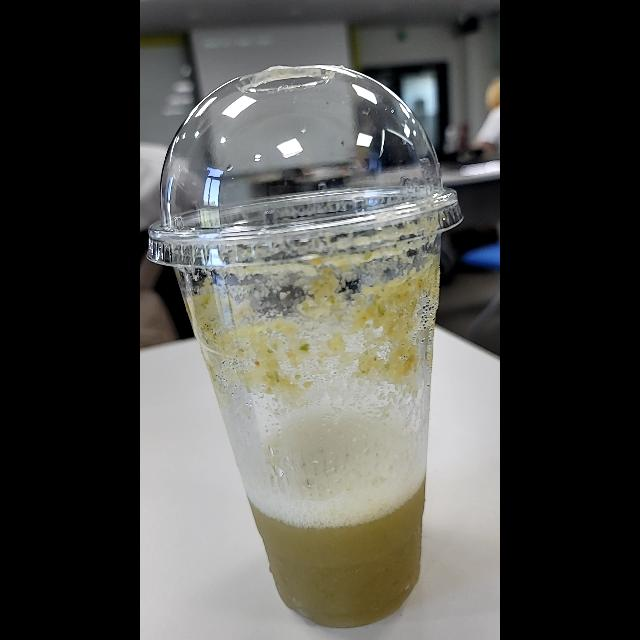plastic_cup: (143, 60, 465, 630)
plastic_cup_lid: (140, 64, 466, 268)
